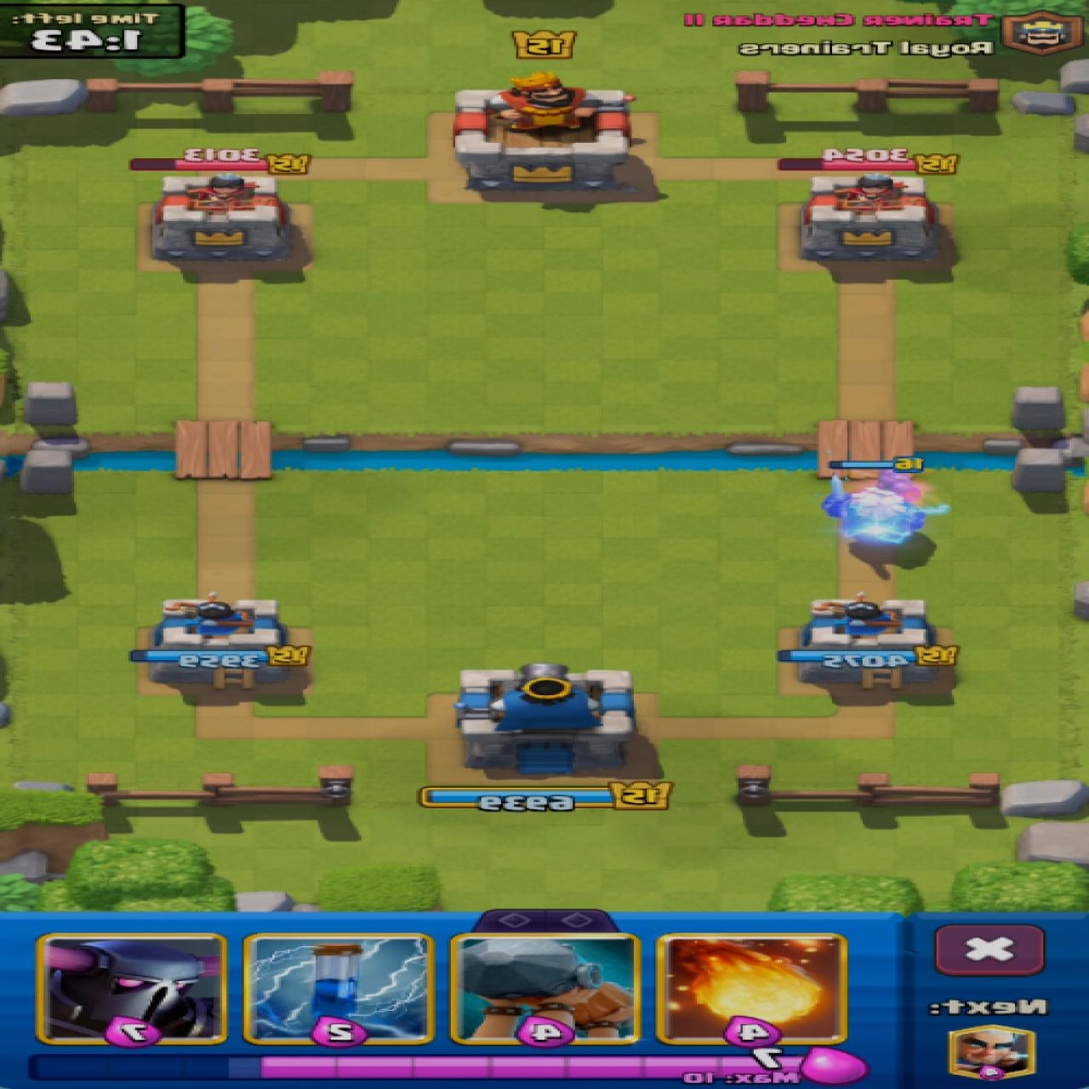Enemy-KingTower: (455, 73, 632, 194)
Enemy-PrincessTower: (152, 174, 290, 261), (802, 173, 939, 260)
